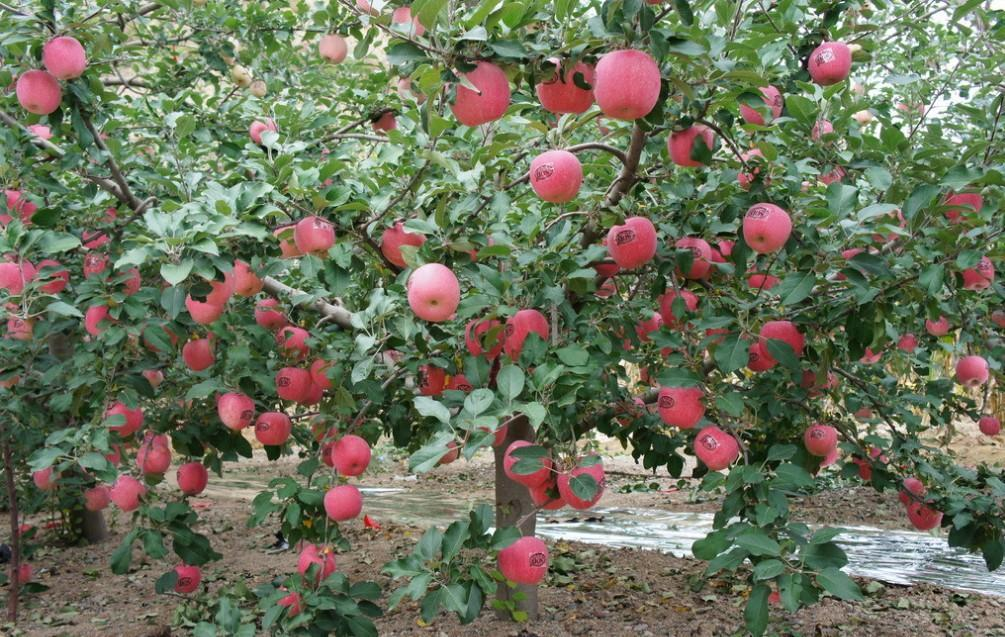apple: (593, 48, 661, 121), (446, 61, 511, 127), (535, 54, 597, 113), (405, 262, 461, 322), (377, 217, 431, 271), (605, 215, 657, 268), (496, 534, 548, 587), (530, 151, 583, 202), (741, 203, 793, 254), (667, 124, 724, 169), (558, 457, 607, 509), (502, 438, 550, 486), (657, 385, 708, 428), (16, 69, 62, 114), (807, 41, 853, 85), (695, 426, 740, 469), (327, 434, 371, 477), (43, 35, 86, 78), (295, 213, 337, 255), (321, 483, 363, 522), (299, 541, 337, 584), (217, 391, 255, 431), (953, 354, 994, 390), (274, 363, 311, 401), (111, 475, 148, 511), (231, 260, 267, 297), (134, 444, 170, 480), (254, 411, 292, 445), (803, 423, 838, 456), (252, 297, 288, 329), (316, 30, 348, 65), (182, 339, 215, 372), (177, 460, 208, 495), (170, 563, 201, 594)
